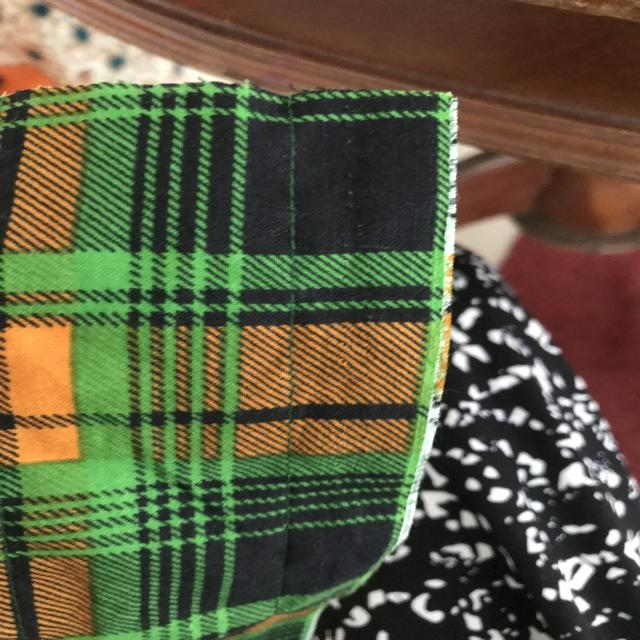good: (267, 132, 319, 240)
